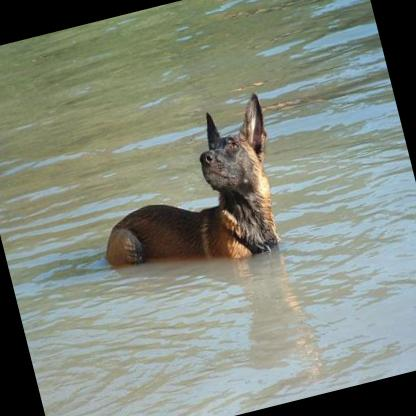malinois: (70, 82, 296, 292)
